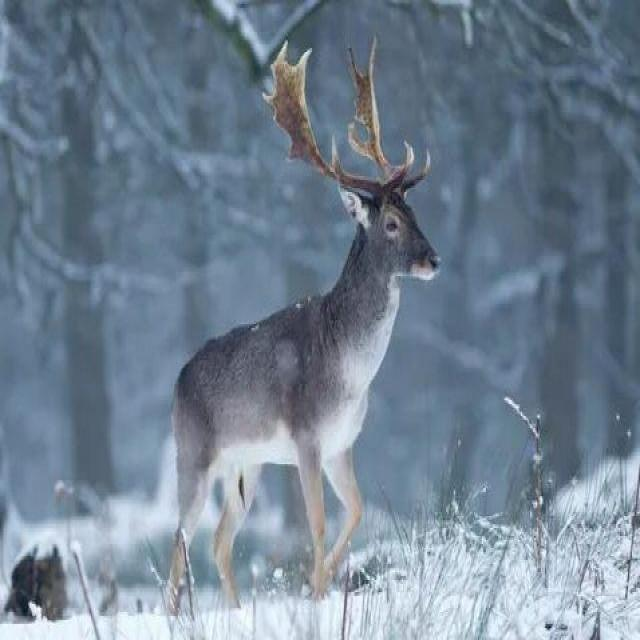deer: (121, 123, 502, 592)
